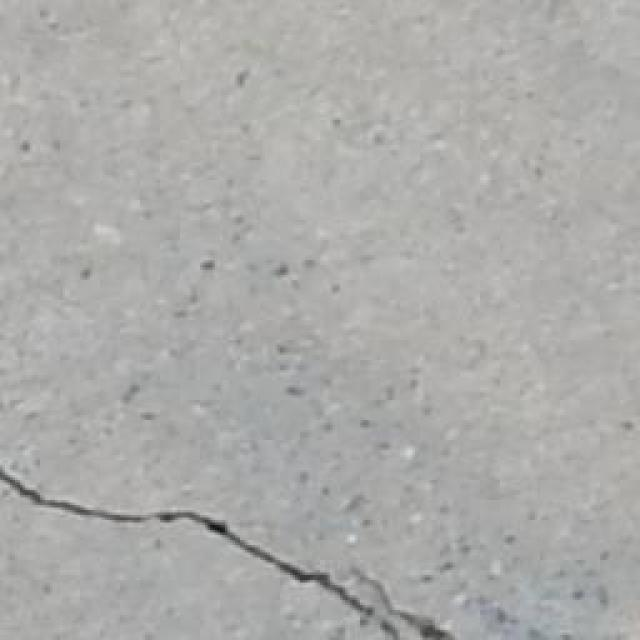concrete-crack: (0, 468, 402, 640), (355, 568, 458, 640)
